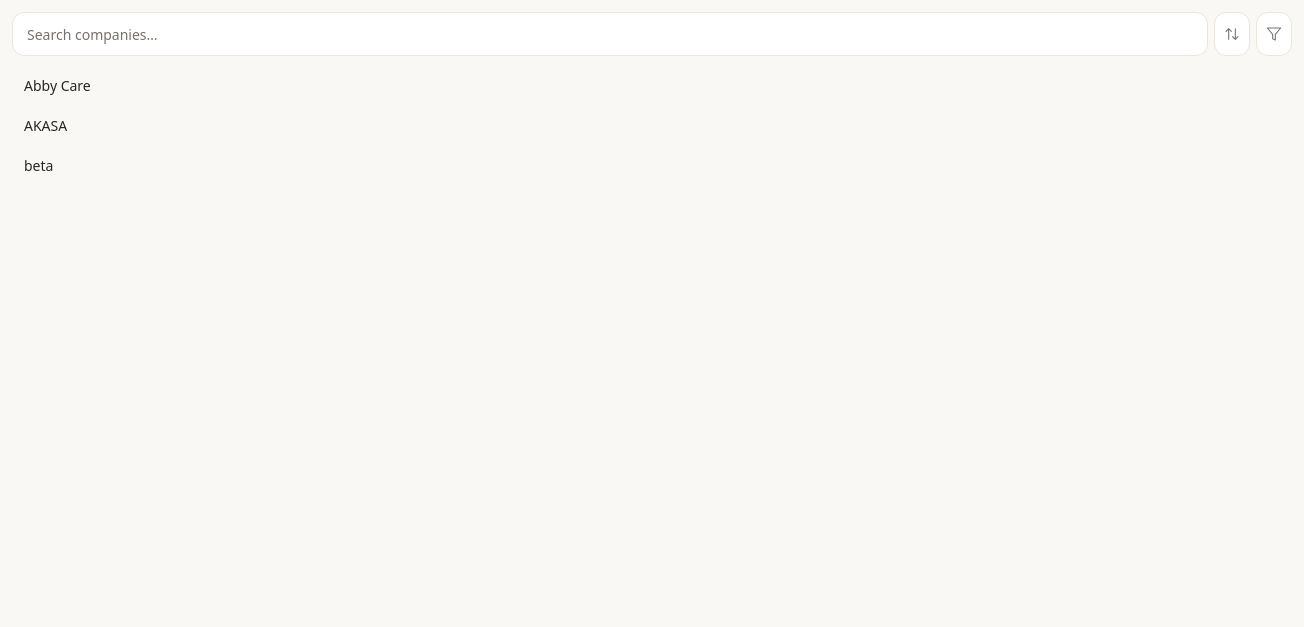
Test case: CompaniesSidebar menus, focus, and ARIA › exposes accessible names, aria-haspopup, and aria-expanded on both buttons (Req 1.7)
Click the button named "Sort companies" at (1232, 34), box [1214,12,1250,56]
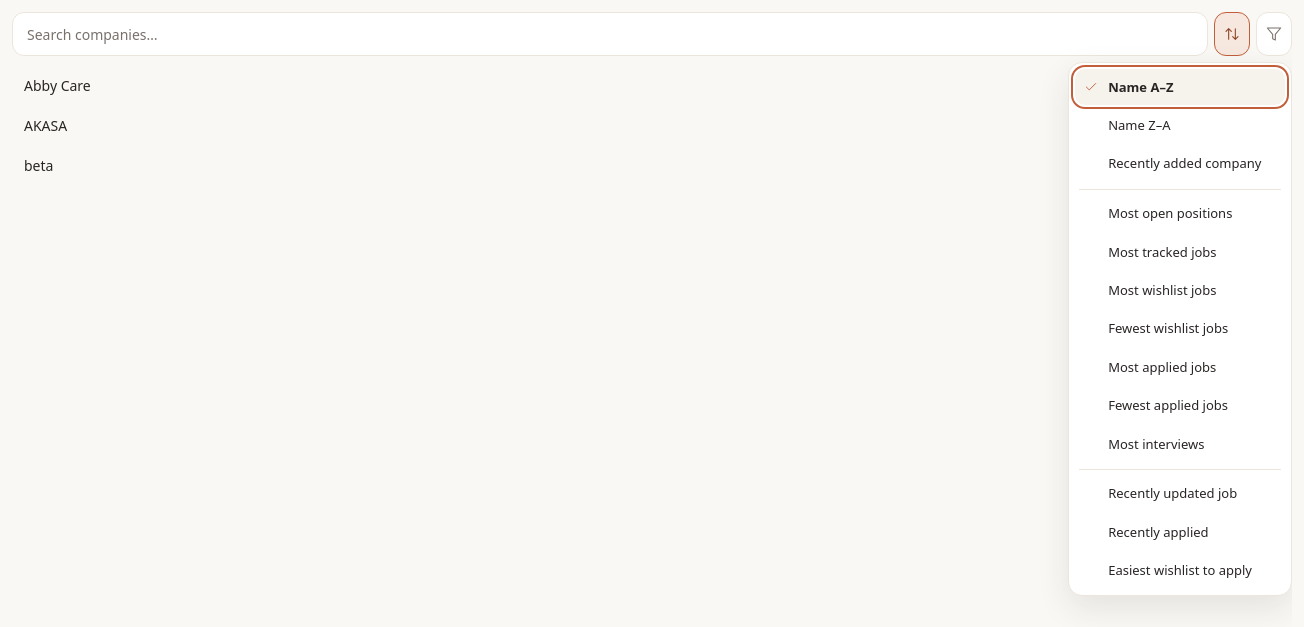
expect the button named "Sort companies" is expanded: met, box [1214,12,1250,56]
Click the button named "Filter companies" at (1274, 34), box [1256,12,1292,56]
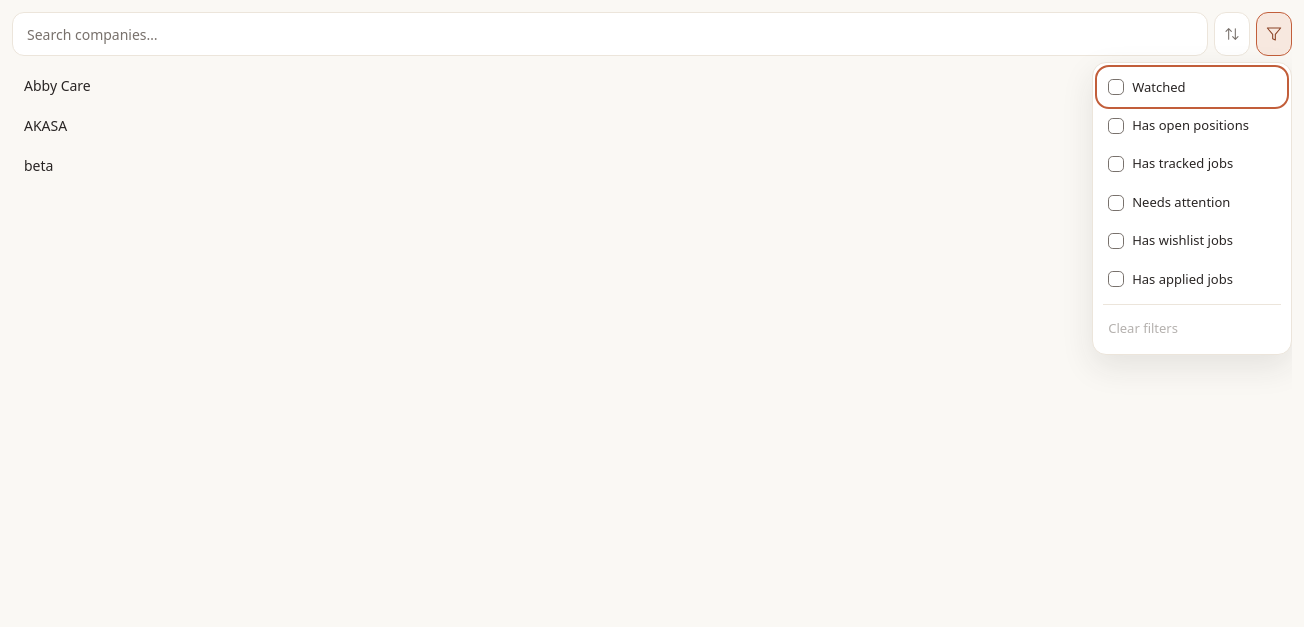
expect the button named "Sort companies" is collapsed: met, box [1214,12,1250,56]
expect the button named "Filter companies" is expanded: met, box [1256,12,1292,56]
